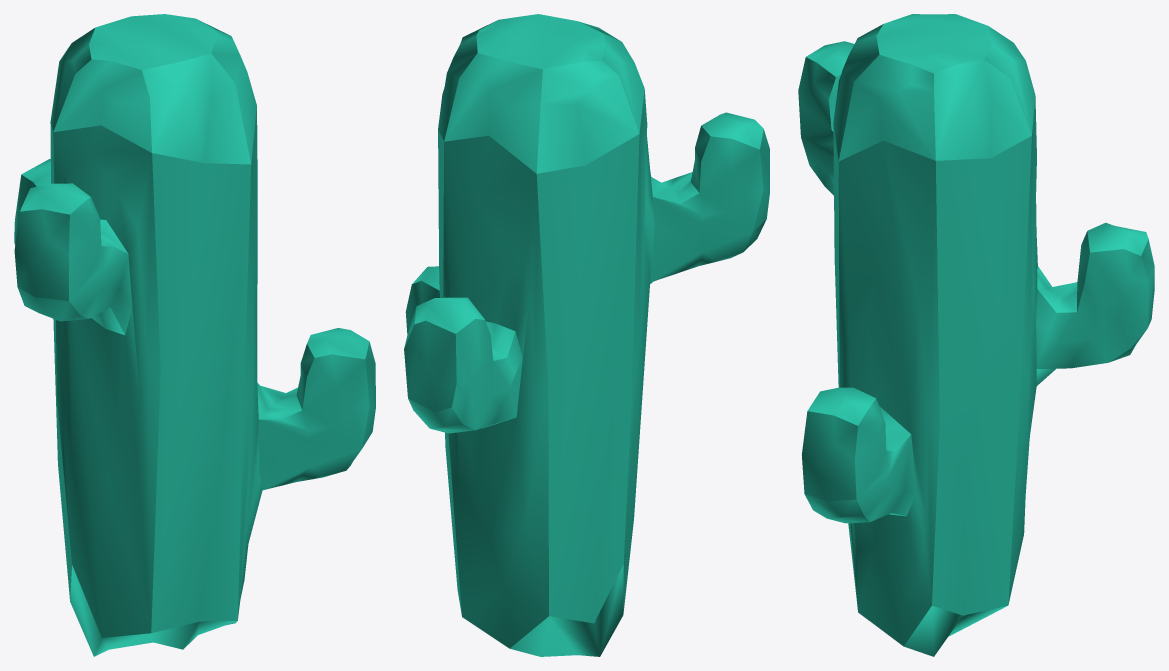
The model's file is cactusShort.glb.
The picture shows the model from 3 angles, left to right: view 1: azimuth 30°, elevation 25°; view 2: azimuth 150°, elevation 25°; view 3: azimuth 270°, elevation 25°; orthographic projection. The views are drawn at different scales.
Visible parts, largest first — view 1: Asset3DLoader.sceneRoot; view 2: Asset3DLoader.sceneRoot; view 3: Asset3DLoader.sceneRoot.
Part boxes in pixels (x1,y1,x2,y2): Asset3DLoader.sceneRoot: (14, 14, 375, 656); Asset3DLoader.sceneRoot: (404, 14, 769, 656); Asset3DLoader.sceneRoot: (798, 14, 1154, 656).
Bounding box in the file's own units: 0.328 × 0.533 × 0.2904.
